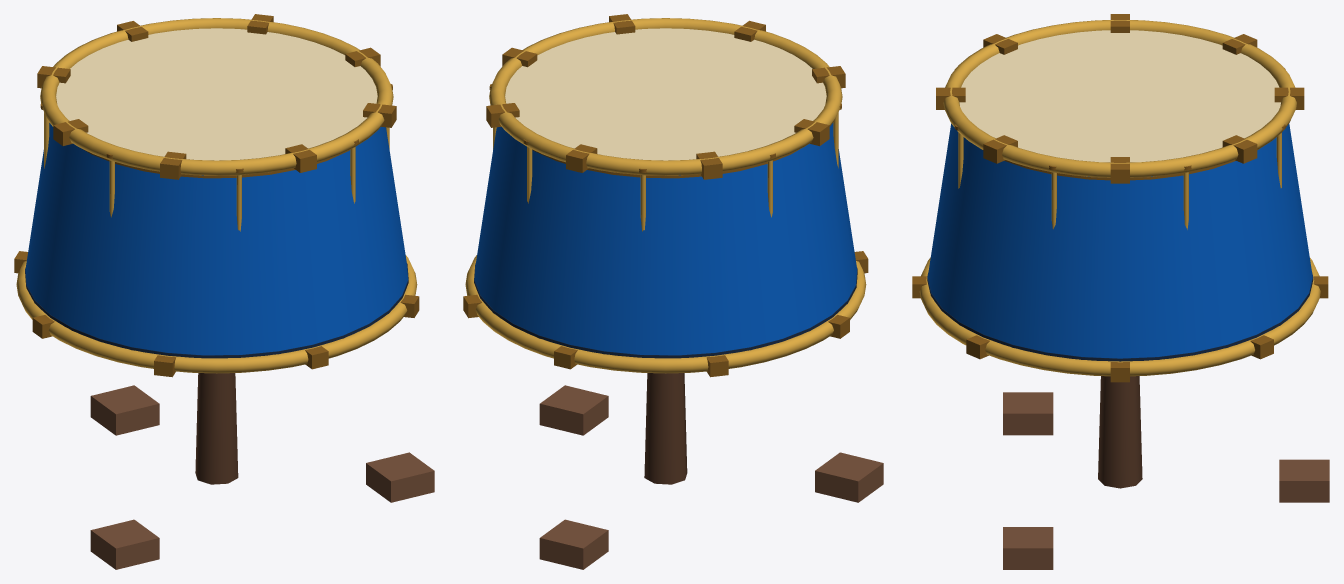
Rendered from asset.glb.
The picture shows the model from 3 angles, left to right: view 1: azimuth 30°, elevation 25°; view 2: azimuth 150°, elevation 25°; view 3: azimuth 270°, elevation 25°; orthographic projection.
Parts seen in each view (by area): view 1: Blue_Drum_Shell, Cream_Top_Drumhead, Top_Gold_Hoop, Bottom_Gold_Hoop, Central_Support_Post, Foot_2, Foot_3, Foot_1, Dark_Lower_Drumhead, Top_Tension_Lug_3, Top_Head_Edge, Top_Tension_Lug_4 (+1 smaller); view 2: Blue_Drum_Shell, Cream_Top_Drumhead, Top_Gold_Hoop, Bottom_Gold_Hoop, Central_Support_Post, Foot_1, Foot_3, Foot_2, Dark_Lower_Drumhead, Top_Tension_Lug_7, Top_Head_Edge, Top_Tension_Lug_6 (+1 smaller); view 3: Blue_Drum_Shell, Cream_Top_Drumhead, Top_Gold_Hoop, Bottom_Gold_Hoop, Central_Support_Post, Foot_3, Foot_2, Foot_1, Dark_Lower_Drumhead, Top_Tension_Lug_8, Top_Tension_Lug_2, Top_Head_Edge (+1 smaller).
Part boxes in pixels (x1,y1,x2,y2): Blue_Drum_Shell: (25, 123, 408, 355); Cream_Top_Drumhead: (56, 28, 377, 160); Top_Gold_Hoop: (40, 18, 393, 175); Bottom_Gold_Hoop: (16, 255, 417, 373); Central_Support_Post: (195, 373, 238, 484); Foot_2: (90, 519, 159, 569); Foot_3: (90, 385, 159, 435); Foot_1: (366, 452, 434, 502); Dark_Lower_Drumhead: (25, 263, 408, 358); Top_Tension_Lug_3: (285, 144, 316, 172); Top_Head_Edge: (83, 149, 350, 178); Top_Tension_Lug_4: (160, 151, 186, 179); Blue_Drum_Shell: (474, 123, 857, 355); Cream_Top_Drumhead: (505, 28, 826, 160); Top_Gold_Hoop: (489, 18, 842, 175); Bottom_Gold_Hoop: (465, 255, 866, 373); Central_Support_Post: (644, 373, 687, 484); Foot_1: (539, 385, 608, 435); Foot_3: (539, 519, 608, 569); Foot_2: (815, 452, 883, 502); Dark_Lower_Drumhead: (474, 263, 857, 358); Top_Tension_Lug_7: (566, 144, 597, 172); Top_Head_Edge: (532, 149, 799, 178); Top_Tension_Lug_6: (696, 151, 722, 179); Blue_Drum_Shell: (927, 123, 1312, 358); Cream_Top_Drumhead: (959, 30, 1280, 162); Top_Gold_Hoop: (943, 20, 1296, 177); Bottom_Gold_Hoop: (919, 257, 1320, 376); Central_Support_Post: (1098, 376, 1142, 488); Foot_3: (1279, 459, 1329, 502); Foot_2: (1003, 392, 1053, 435); Foot_1: (1003, 527, 1053, 569); Dark_Lower_Drumhead: (927, 272, 1313, 361); Top_Tension_Lug_8: (1222, 135, 1257, 163); Top_Tension_Lug_2: (983, 135, 1017, 163); Top_Head_Edge: (981, 149, 1258, 180).
Bounding box in the file's own units: 2.8 × 3.01 × 2.81.
